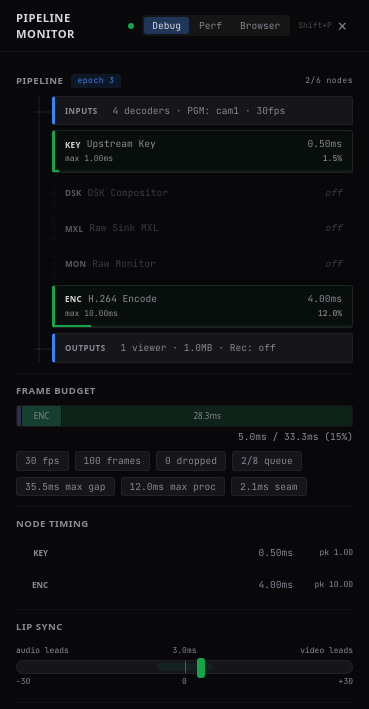
Test: StatsPanel › renders per-source cards in browser tab with section headers
Switch to browser tab
Click the button with class "toggle-btn" showing "Browser": {"x": 260, "y": 26} [232,17,288,34]
Wait 100 ms
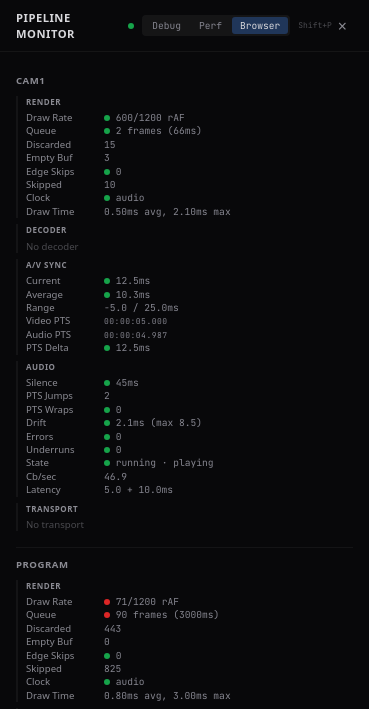
Now the element with class "stats-panel" shows "PROGRAM", box [16,558,68,571]
Now the element with class "stats-panel" shows "Render", box [26,96,61,107]
Now the element with class "stats-panel" shows "A/V Sync", box [26,259,67,270]
